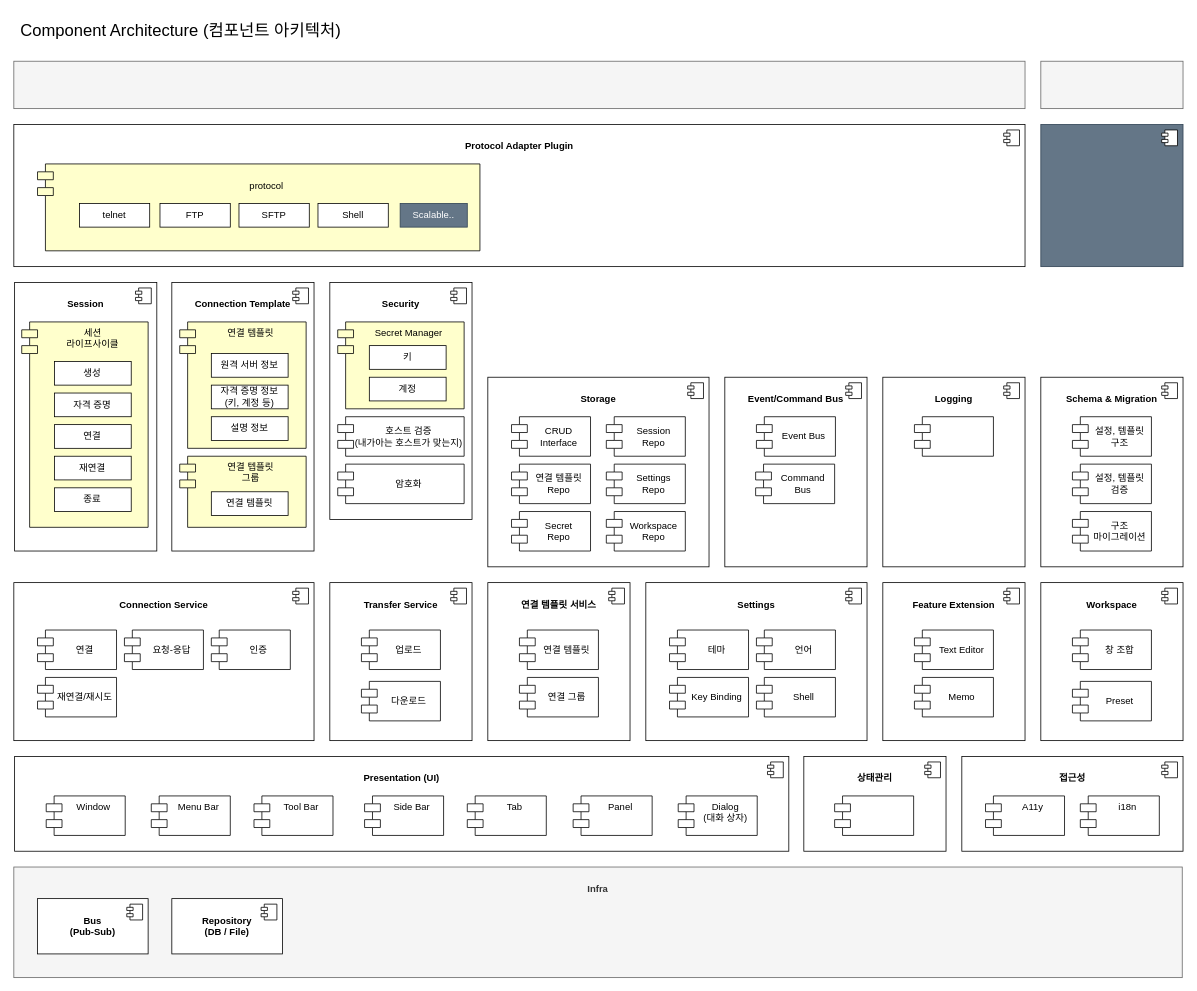
The diagram is 1197 pixels wide and 991 high, and some of its shapes have lost their labels. The shapes that lost their labels are listed below. From the top down, each one's centre as x and y in pixels, then its label:
point (519, 84): Remote Server
point (1111, 84): Internet
point (1111, 195): Browser
point (953, 436): 로그 수집
point (874, 815): MVVM / Redux-like / ...
